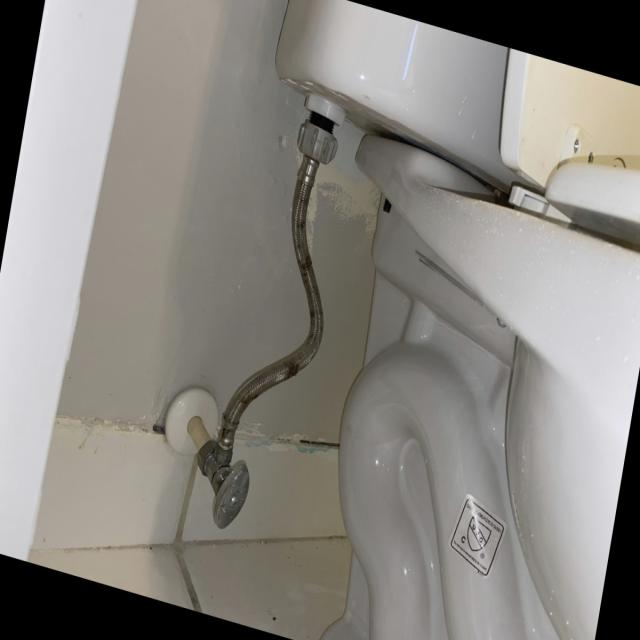bad_line: (210, 164, 327, 466)
good_coupler: (293, 119, 338, 165)
good_valve: (199, 436, 250, 530)
rusty_bolt: (381, 197, 392, 214)
